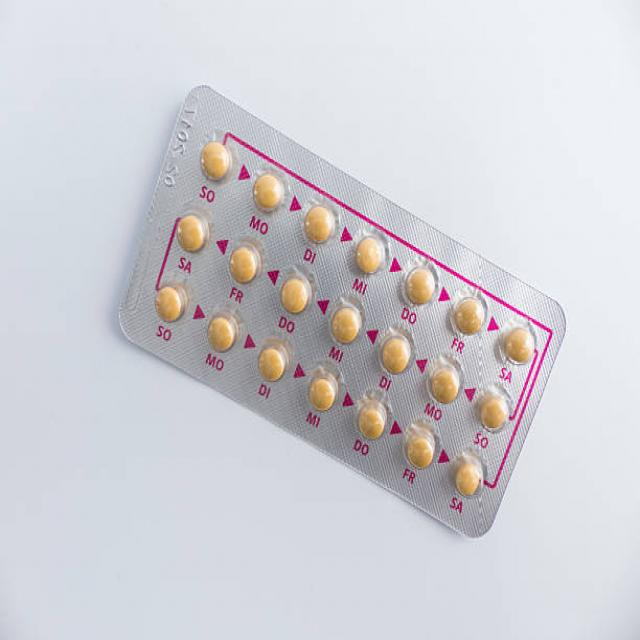Pill: (188, 134, 238, 190), (497, 310, 539, 372), (474, 380, 516, 441), (399, 255, 443, 312), (448, 285, 491, 342), (428, 350, 463, 417), (398, 418, 438, 476), (352, 224, 390, 283), (146, 282, 189, 334), (378, 324, 416, 382), (202, 304, 238, 365), (222, 237, 264, 289), (251, 162, 287, 222), (276, 269, 312, 327), (350, 390, 385, 448), (450, 454, 488, 507), (306, 363, 340, 422), (327, 294, 363, 349), (172, 203, 205, 261), (302, 196, 336, 251), (254, 337, 285, 392)
